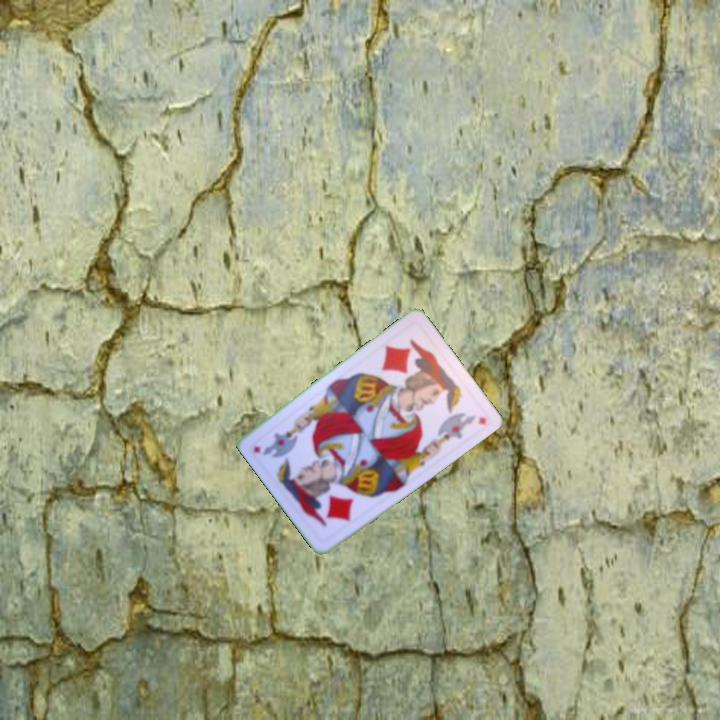d_j.png: (284, 459, 368, 545), (371, 319, 455, 405)
